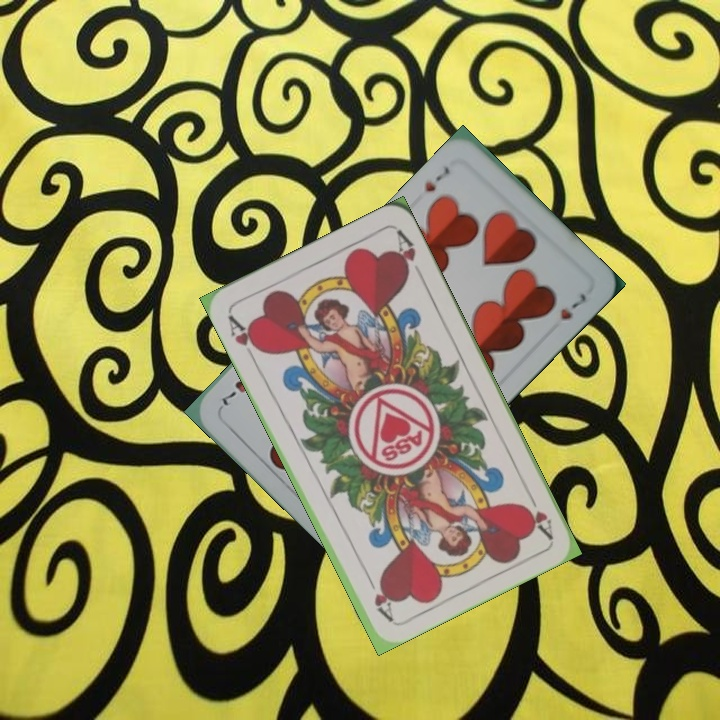H7: (420, 162, 453, 195)
HA: (224, 310, 264, 365), (518, 485, 556, 541)
